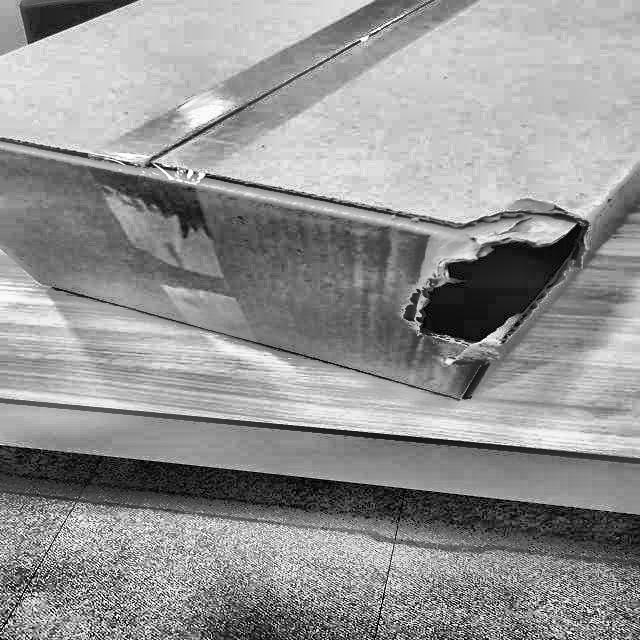box: (0, 0, 639, 422)
hole: (408, 218, 586, 359)
